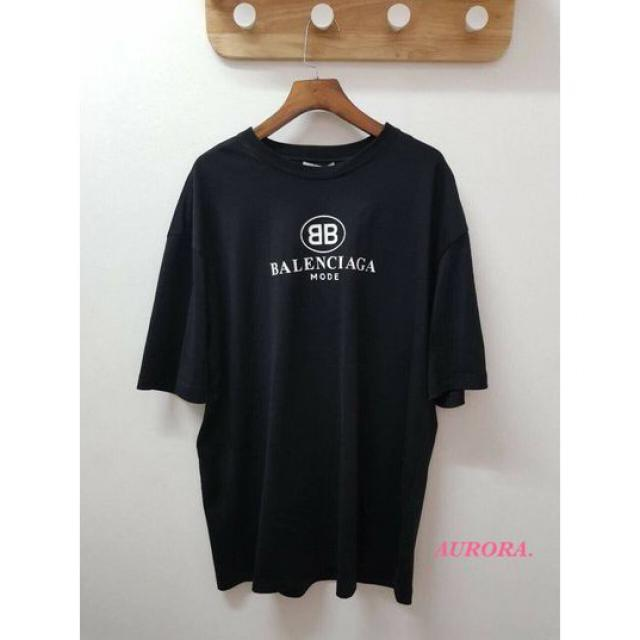Shirt: (137, 120, 488, 612)
